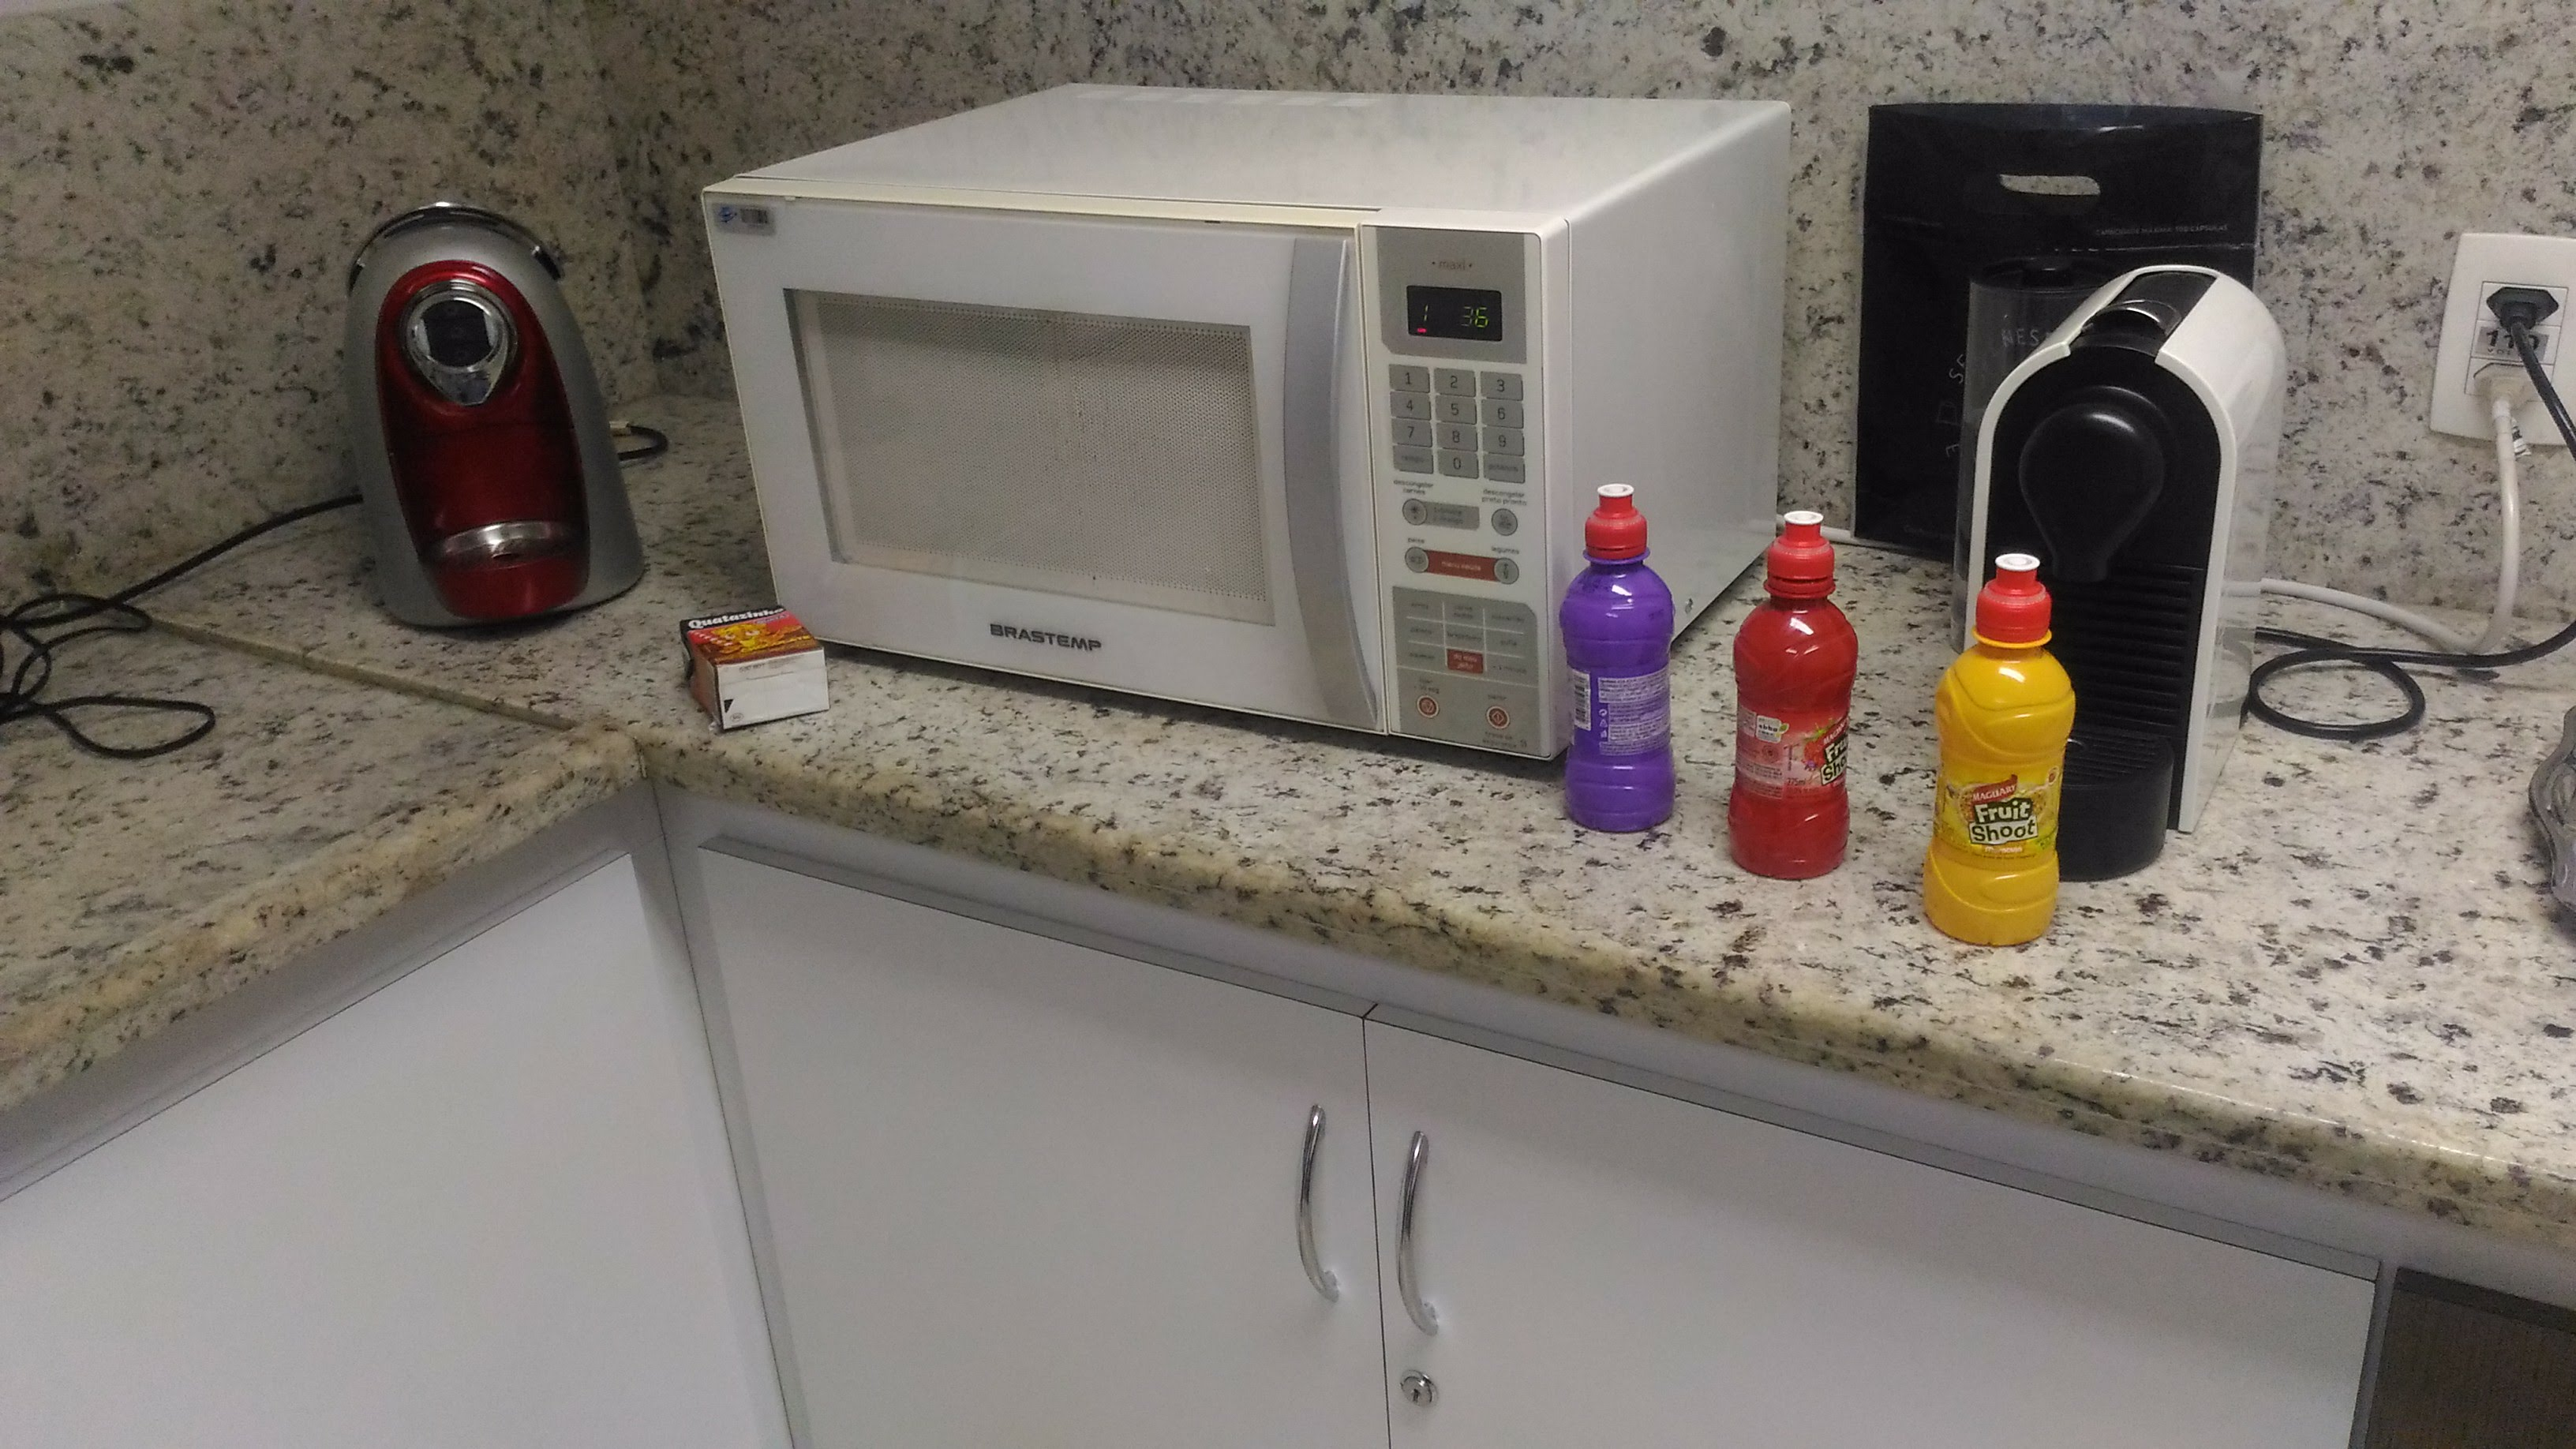chocolate_milk: (672, 607, 842, 741)
purple_juice: (1553, 483, 1691, 837)
red_juice: (1723, 513, 1861, 895)
yellow_juice: (1918, 545, 2081, 970)
